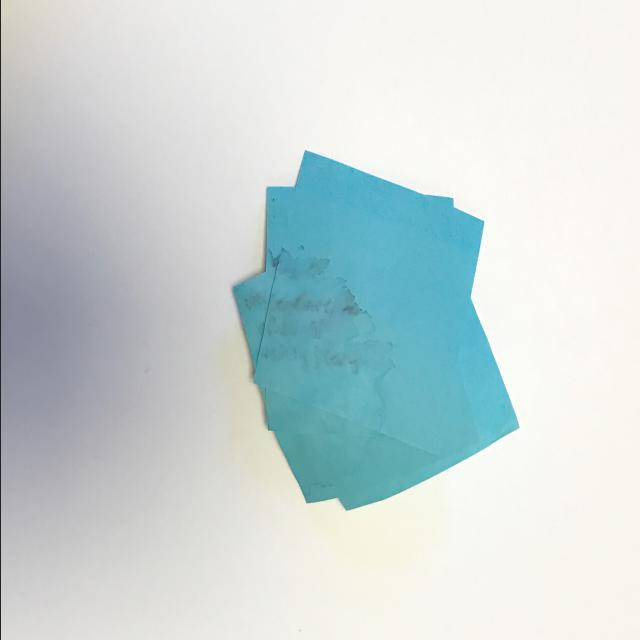Paper: (210, 138, 540, 514)
